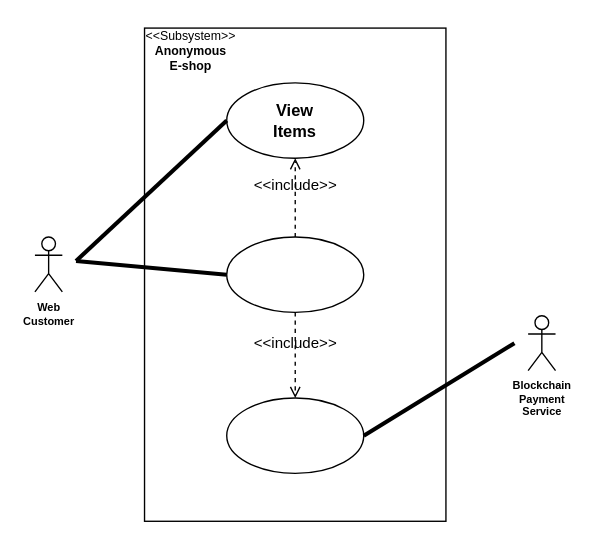
Some shapes in this 595 by 545 pixel diagram are drawn without their labels. The centre of each missing label's shape, as x and y in pixels:
"Checkout" goes at [294,435].
"Make Purchase" goes at [294,274].
